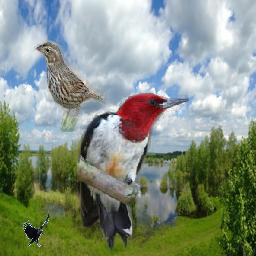Crow: (23, 211, 50, 248)
Sparrow: (35, 38, 106, 132)
Woodpecker: (77, 92, 189, 250)
